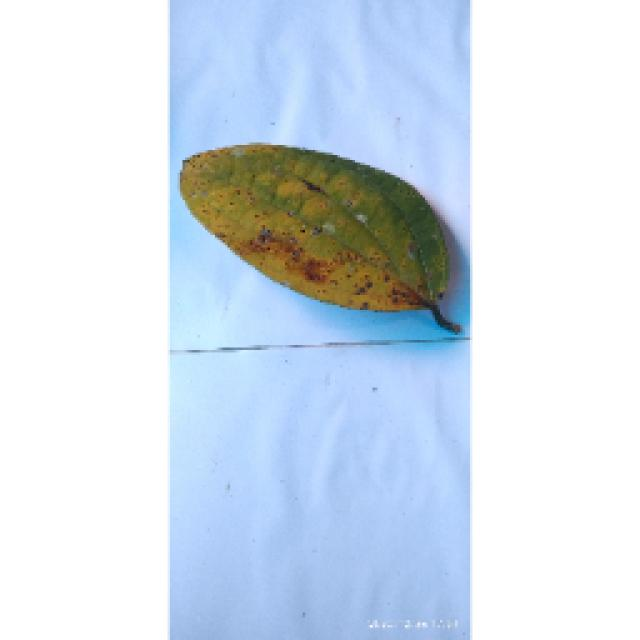slow-decline: (173, 135, 465, 333)
